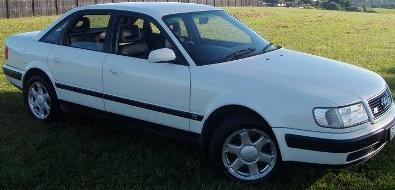front_view: (287, 83, 394, 167)
headlight: (309, 100, 373, 127)
side_glass: (48, 7, 181, 62)
